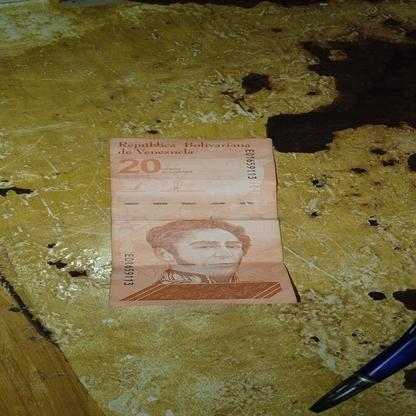twenty-front-vef: (108, 136, 299, 308)
